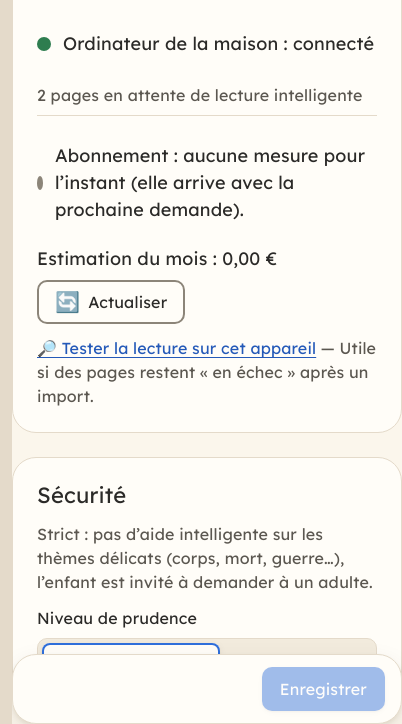
Options page: lecture intelligente › shows the switch, the worker state with waiting pages, and refreshes on demand
This screenshot has width=402, height=724.
(page scrolled)
Click the button "🔄 Actualiser": {"x": 111, "y": 302} [37, 280, 185, 324]
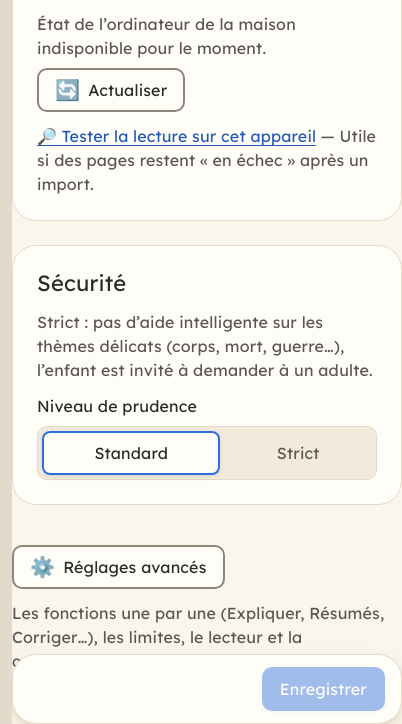
Check: the text "État de l’ordinateur de la maison indisponible pour le moment." is shown, box [37, 14, 296, 58]
